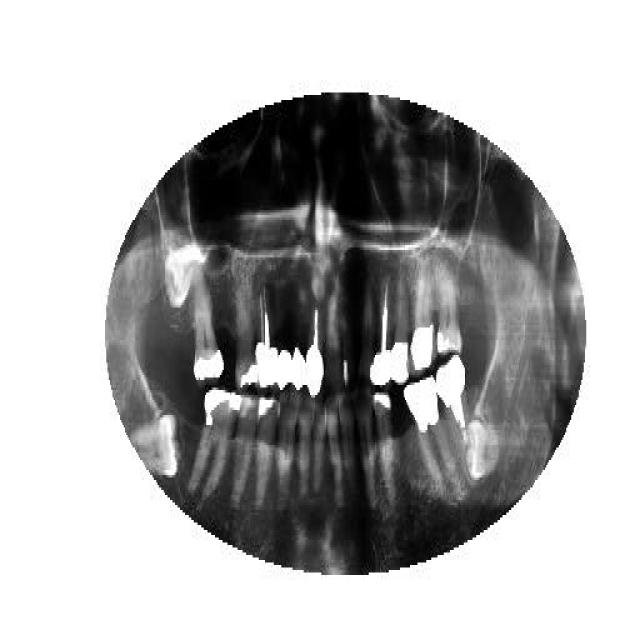Fillings: (190, 388, 242, 498), (402, 375, 452, 487), (192, 280, 224, 380), (407, 275, 435, 375), (433, 270, 462, 355), (374, 388, 395, 498), (390, 275, 410, 383), (255, 400, 276, 500), (235, 290, 255, 390), (289, 295, 306, 393), (278, 288, 292, 390)
Impacted Tooth: (130, 408, 180, 480), (463, 413, 502, 485)
Implant: (436, 353, 475, 485), (368, 270, 392, 392), (256, 280, 279, 392), (305, 295, 323, 395)
